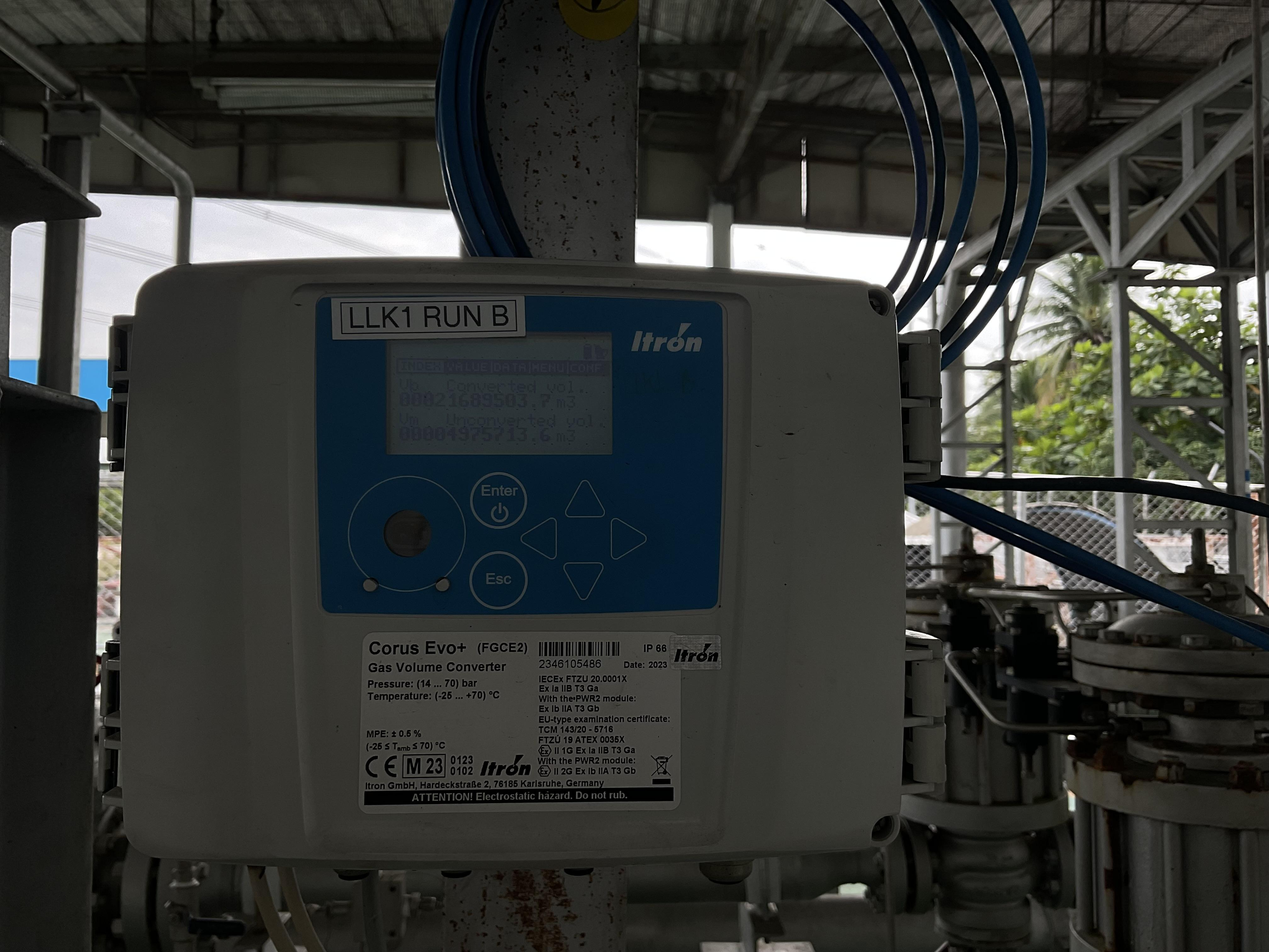digital_screen: (387, 334, 613, 454)
